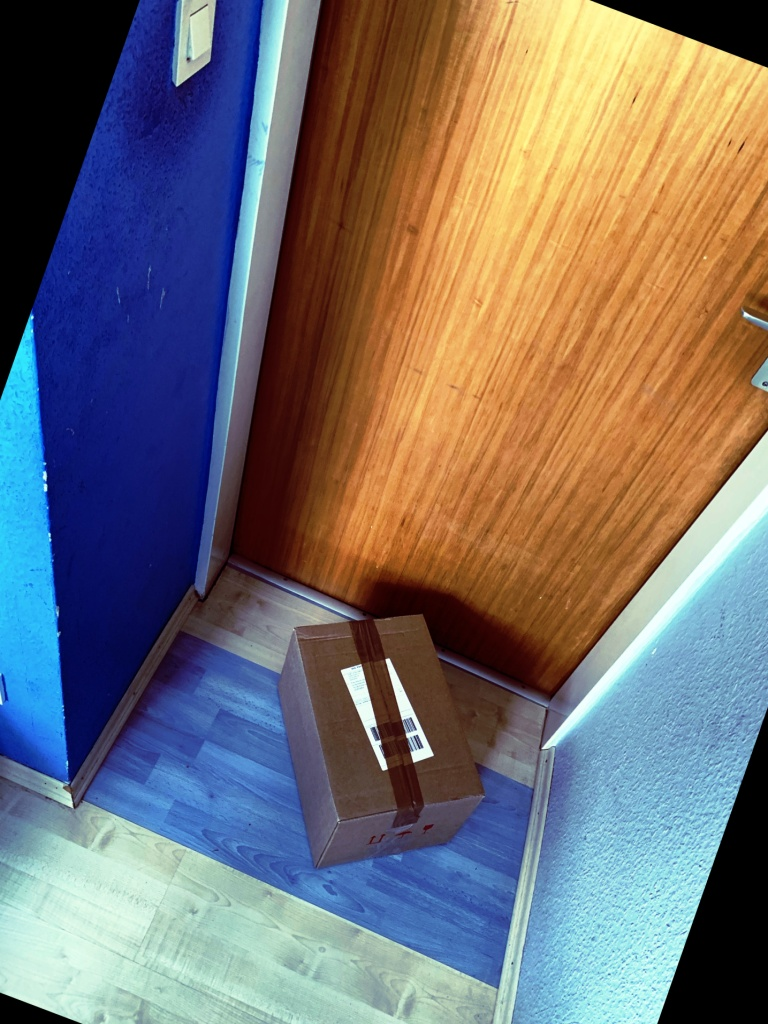good-parcel: (267, 596, 489, 876)
